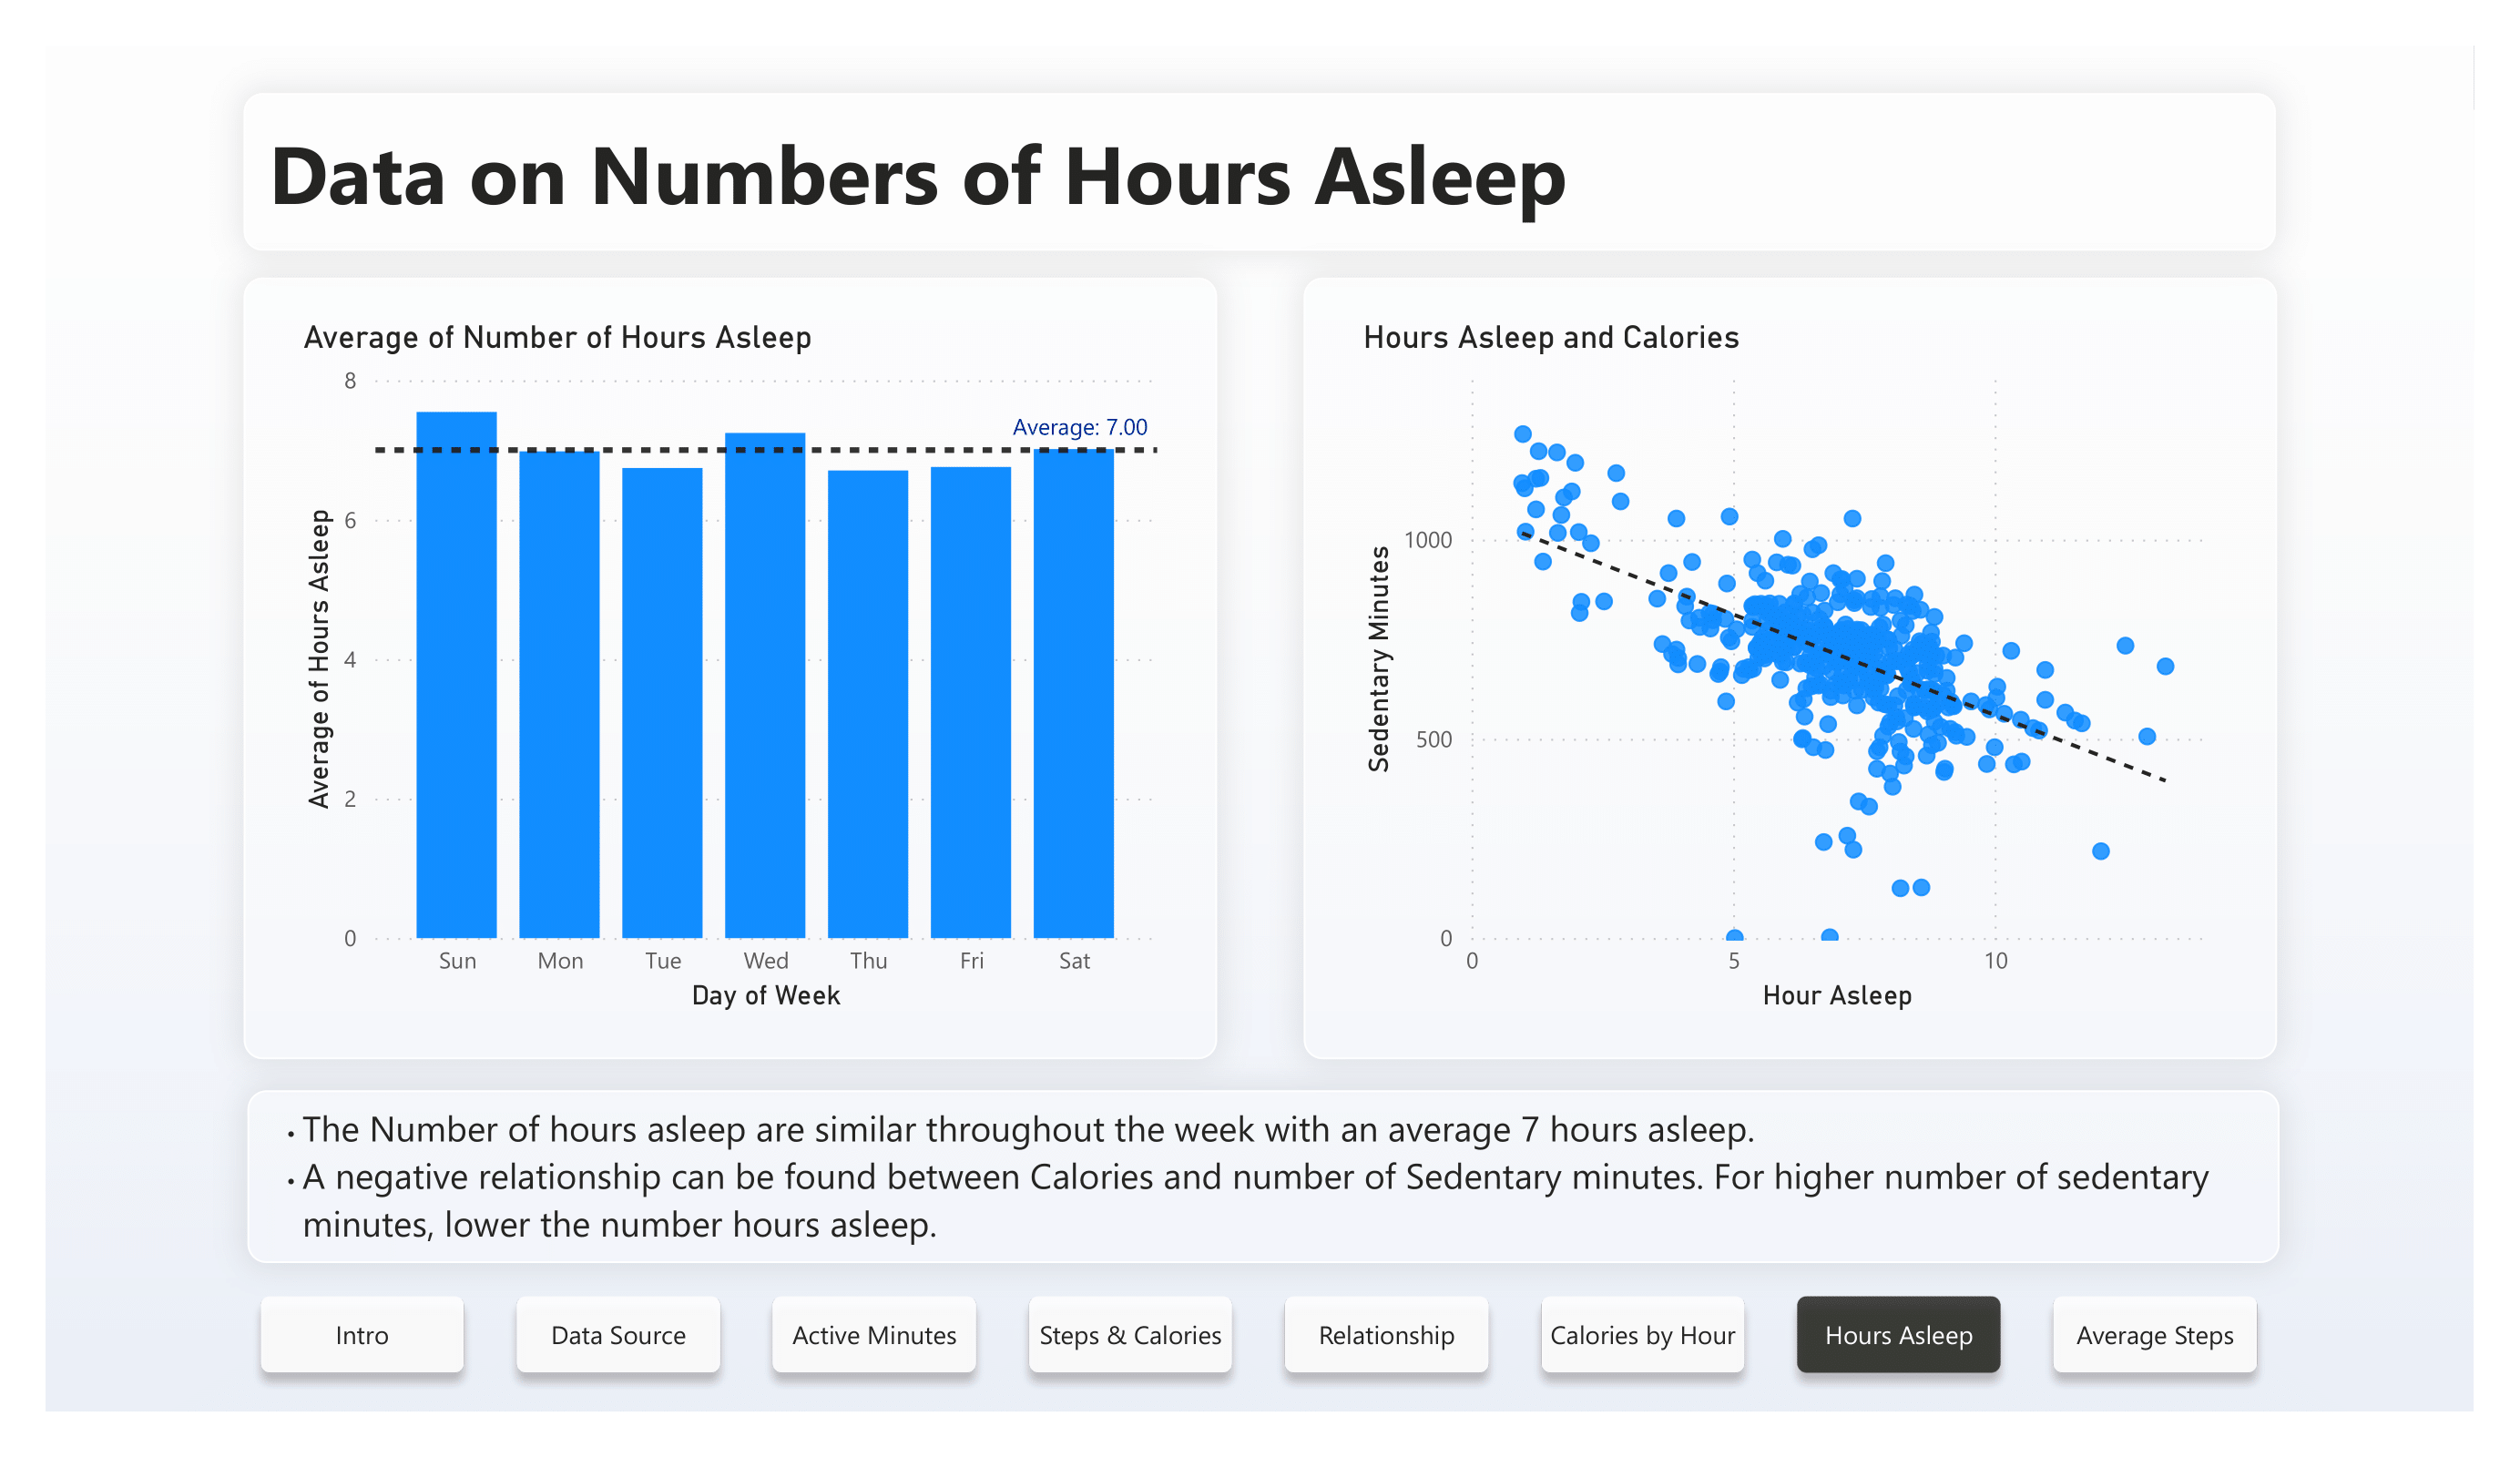

The page's visual inventory and layout, read from the dashboard file:
{"tool":"powerbi","page":{"name":"Hours Asleep","canvas":[1280,720],"ordinal":6},"visuals":[{"type":"shape","box":[662.9,122.1,512.9,412.1],"z":0},{"type":"shape","box":[104.3,122.1,512.9,412.1],"z":1000},{"type":"shape","box":[104.3,25,1071.4,82.9],"z":2000},{"type":"pageNavigator","box":[104.3,650.7,1071.4,58.6],"z":3000},{"type":"textbox","box":[112.1,32.1,1028.6,68.6],"z":4000},{"type":"shape","box":[106.4,550.7,1071.4,91.4],"z":5000},{"type":"textbox","box":[112.1,552.9,1055,86.4],"z":6000},{"type":"clusteredColumnChart","title":"Average of Number of Hours Asleep","fields":{"Y":["Avg(sleepDay_merged.HourAsleep)"],"Category":["Date.Day of Week"]},"box":[130.7,143.6,460,370],"z":7000},{"type":"scatterChart","title":"Hours Asleep and Calories","fields":{"X":["sleepDay_merged.HourAsleep"],"Y":["dailyActivity_merged.Calories"]},"box":[689.3,143.6,460,370],"z":8000}]}

Visuals, with their boxes on the page's 1280x720 design canvas (x1, y1, x2, y2). These are canvas units, not pixel positions in the 2520x1457 screenshot, which may show the page scaled, cropped or inside an application window:
shape: <bbox>663, 122, 1176, 534</bbox>
shape: <bbox>104, 122, 617, 534</bbox>
shape: <bbox>104, 25, 1176, 108</bbox>
pageNavigator: <bbox>104, 651, 1176, 709</bbox>
textbox: <bbox>112, 32, 1141, 101</bbox>
shape: <bbox>106, 551, 1178, 642</bbox>
textbox: <bbox>112, 553, 1167, 639</bbox>
"Average of Number of Hours Asleep" clusteredColumnChart: <bbox>131, 144, 591, 514</bbox>
"Hours Asleep and Calories" scatterChart: <bbox>689, 144, 1149, 514</bbox>
